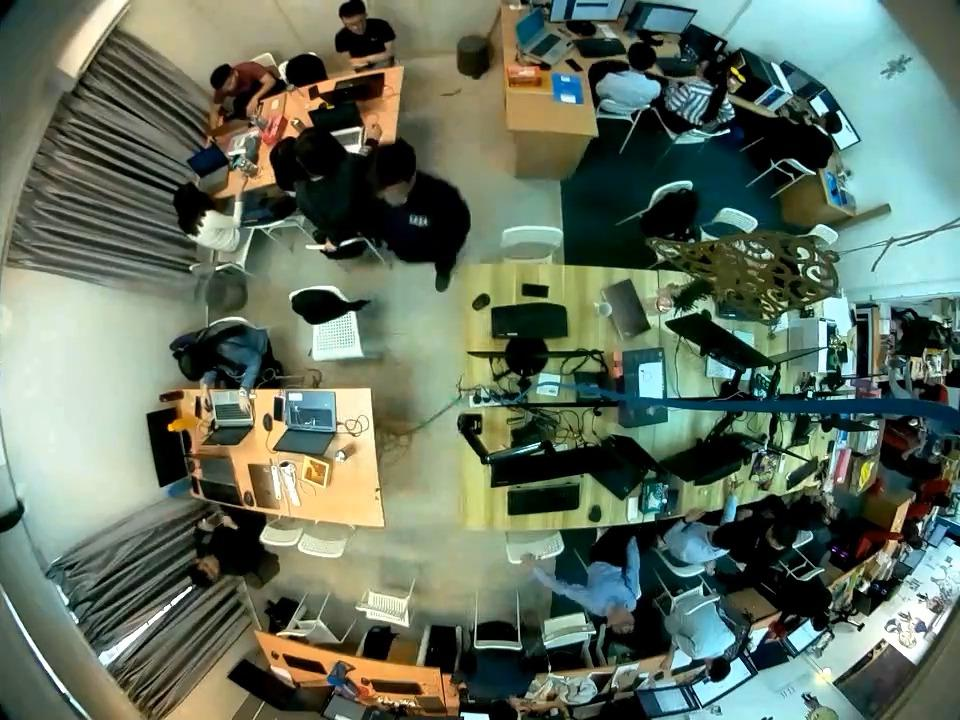name-tag: (406, 208, 432, 232)
